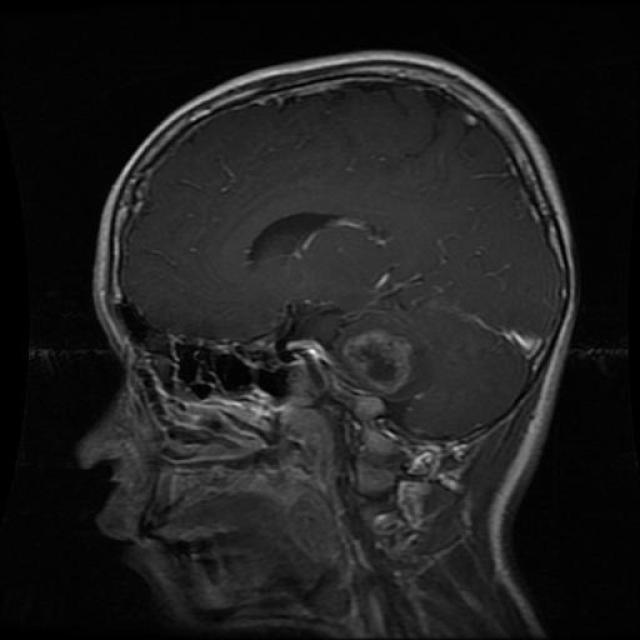glioma: (345, 310, 421, 402)
